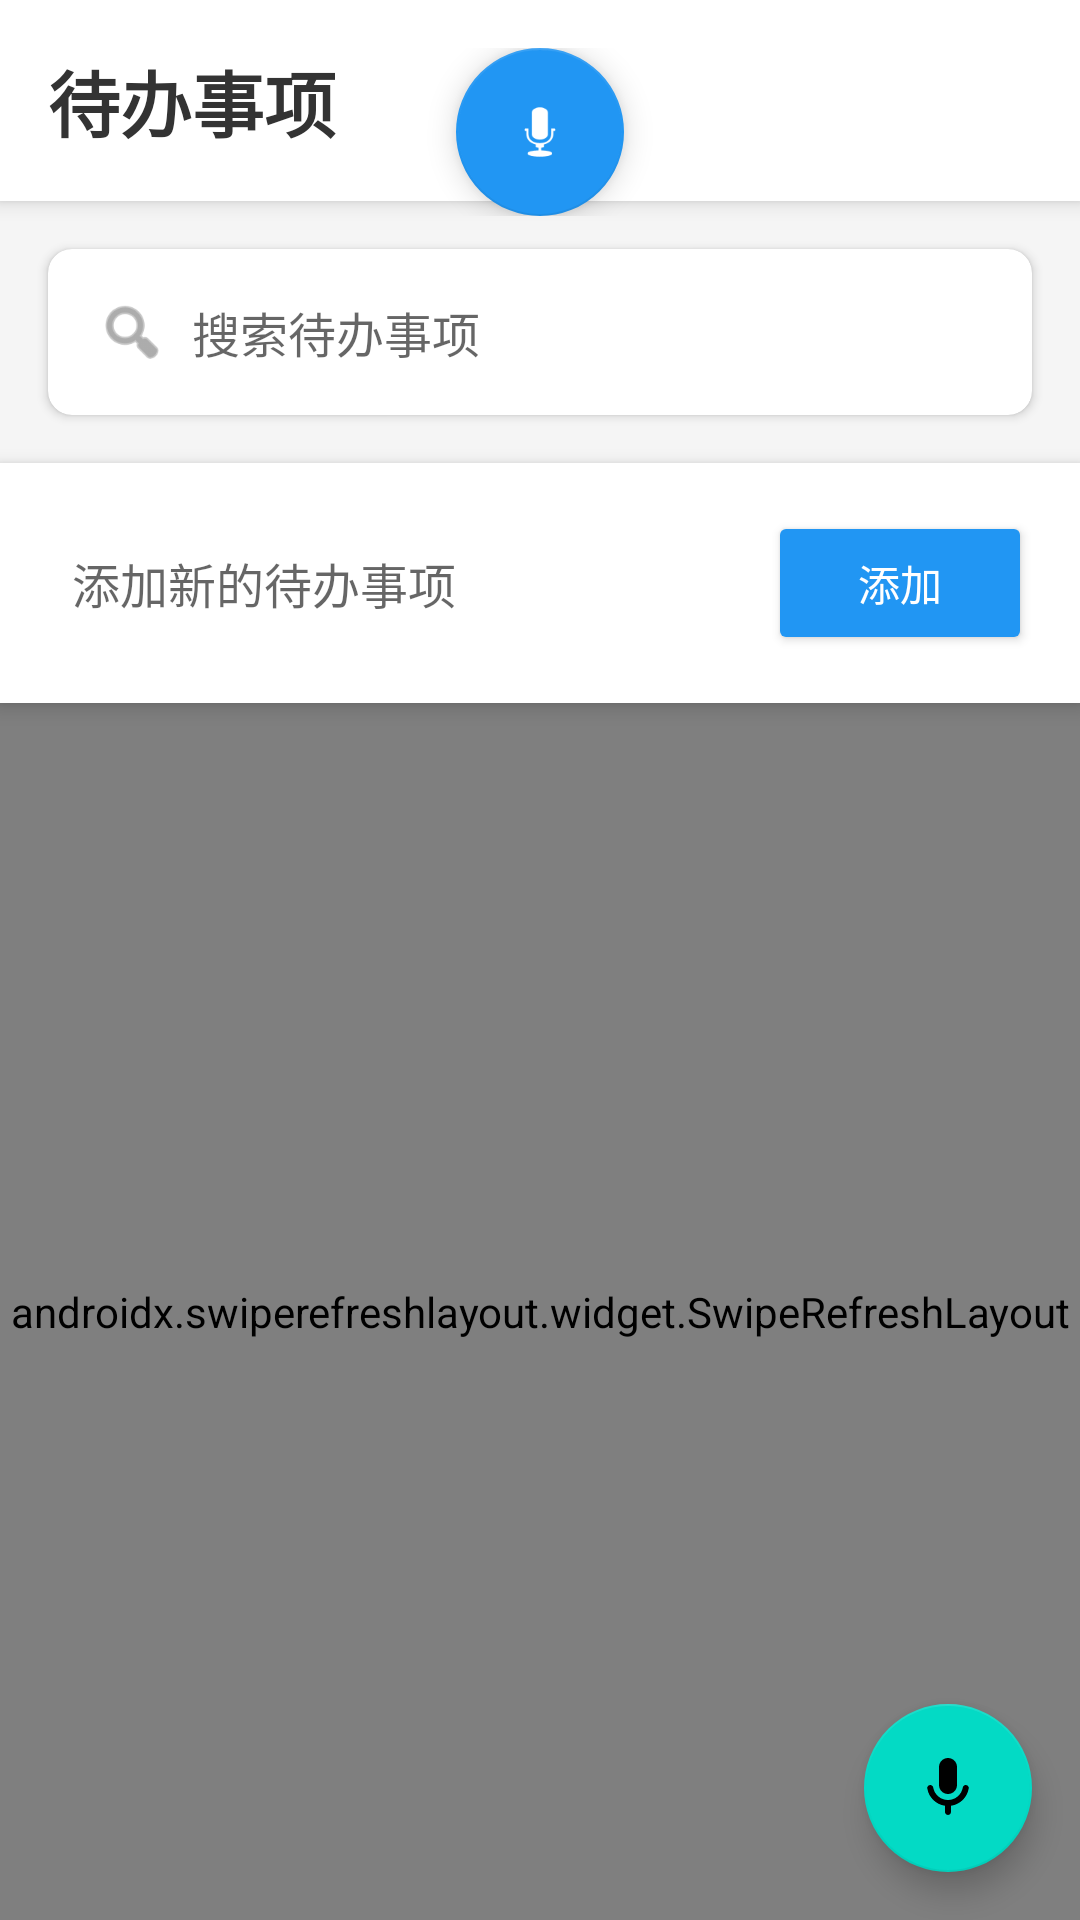

Icons on this 1080x1920 Android screen, each with the point to tap as (x,y):
search: (132,332)
